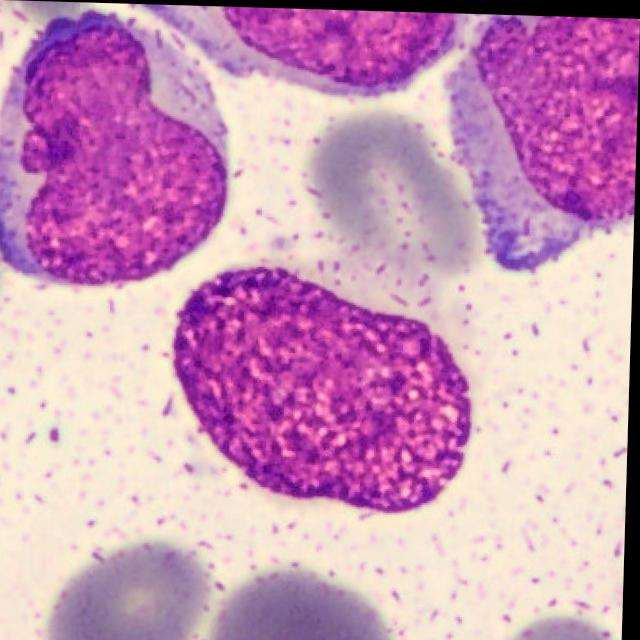Mieloblasto: (0, 6, 230, 285), (445, 12, 640, 268), (142, 3, 463, 93)
Restos celulares: (172, 262, 475, 511)
